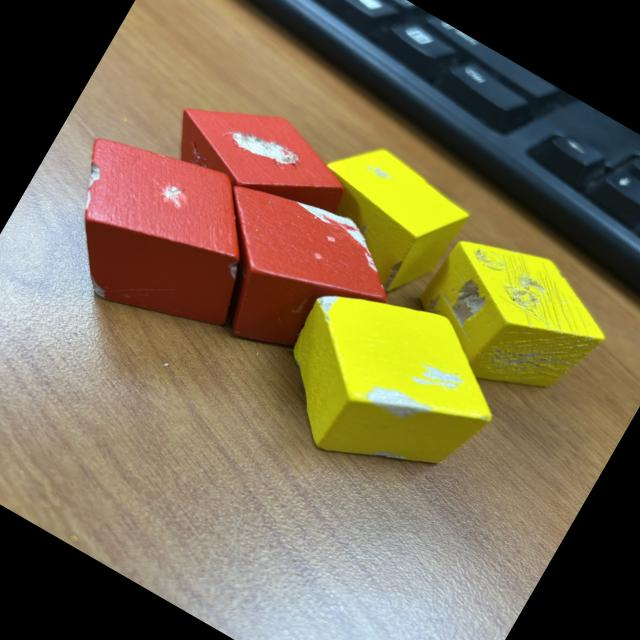broken: (252, 258, 524, 518), (28, 110, 290, 359), (170, 160, 416, 394), (400, 214, 626, 424), (142, 73, 367, 274), (286, 127, 477, 309)
